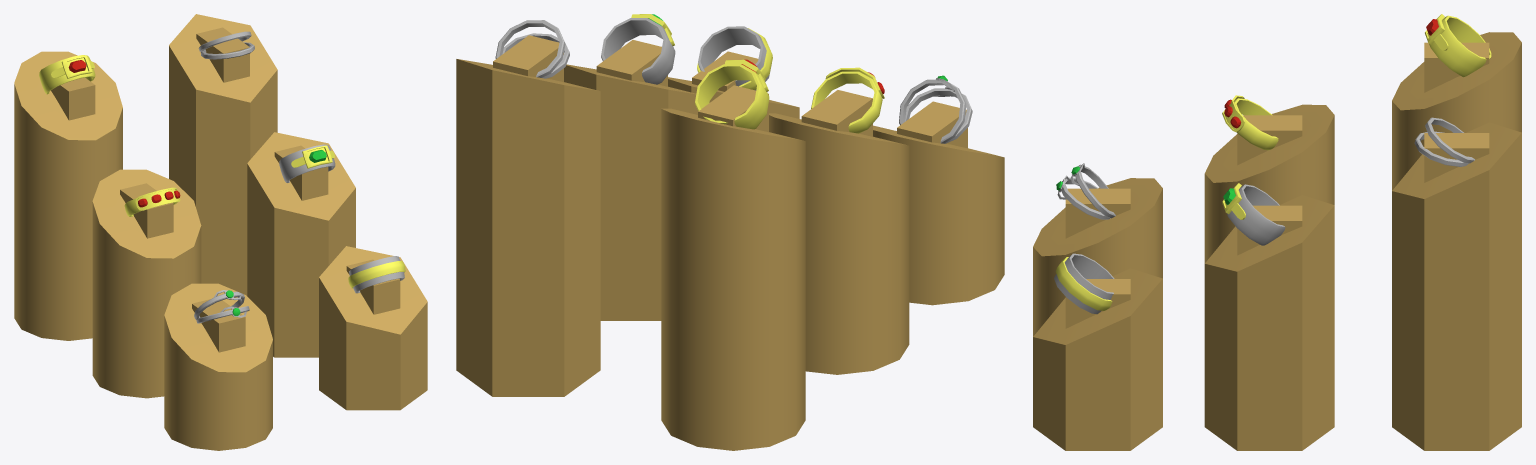
File: Rings_2.fbx
3 renders of one model, left to right at view 1: azimuth 30°, elevation 25°; view 2: azimuth 150°, elevation 25°; view 3: azimuth 270°, elevation 25°, orthographic. The views are drawn at different scales.
Parts seen in each view (by area): view 1: SM_Ring_Stand_4, SM_Ring_Stand_6, SM_Ring_Stand_2, SM_Ring_Stand_5, SM_Ring_Stand_3, SM_Ring_Stand_7, SM_Ring_14, SM_Ring_4, SM_Ring_13, SM_Ring_17, SM_Ring_6, SM_Ring_12; view 2: SM_Ring_Stand_4, SM_Ring_Stand_6, SM_Ring_Stand_2, SM_Ring_Stand_5, SM_Ring_Stand_3, SM_Ring_4, SM_Ring_13, SM_Ring_14, SM_Ring_6, SM_Ring_17, SM_Ring_12, SM_Ring_Stand_7; view 3: SM_Ring_Stand_6, SM_Ring_Stand_5, SM_Ring_Stand_7, SM_Ring_Stand_2, SM_Ring_Stand_4, SM_Ring_Stand_3, SM_Ring_4, SM_Ring_14, SM_Ring_13, SM_Ring_6, SM_Ring_17, SM_Ring_12.
Boxes of the visible parts, x1=… form: SM_Ring_Stand_4: x1=14, y1=51, x2=122, y2=340; SM_Ring_Stand_6: x1=169, y1=14, x2=277, y2=295; SM_Ring_Stand_2: x1=92, y1=169, x2=201, y2=398; SM_Ring_Stand_5: x1=247, y1=132, x2=355, y2=357; SM_Ring_Stand_3: x1=164, y1=283, x2=272, y2=450; SM_Ring_Stand_7: x1=319, y1=246, x2=427, y2=410; SM_Ring_14: x1=348, y1=256, x2=405, y2=293; SM_Ring_4: x1=39, y1=55, x2=95, y2=94; SM_Ring_13: x1=279, y1=144, x2=335, y2=182; SM_Ring_17: x1=194, y1=290, x2=249, y2=323; SM_Ring_6: x1=124, y1=187, x2=180, y2=216; SM_Ring_12: x1=198, y1=31, x2=254, y2=59; SM_Ring_Stand_4: x1=661, y1=85, x2=805, y2=450; SM_Ring_Stand_6: x1=456, y1=35, x2=600, y2=396; SM_Ring_Stand_2: x1=769, y1=90, x2=909, y2=374; SM_Ring_Stand_5: x1=564, y1=40, x2=697, y2=320; SM_Ring_Stand_3: x1=873, y1=101, x2=1004, y2=305; SM_Ring_4: x1=695, y1=59, x2=769, y2=129; SM_Ring_13: x1=601, y1=14, x2=675, y2=84; SM_Ring_14: x1=697, y1=26, x2=772, y2=90; SM_Ring_6: x1=811, y1=67, x2=884, y2=133; SM_Ring_17: x1=899, y1=75, x2=972, y2=143; SM_Ring_12: x1=495, y1=20, x2=569, y2=78; SM_Ring_Stand_7: x1=668, y1=51, x2=799, y2=118; SM_Ring_Stand_6: x1=1392, y1=122, x2=1521, y2=450; SM_Ring_Stand_5: x1=1204, y1=195, x2=1334, y2=450; SM_Ring_Stand_7: x1=1033, y1=268, x2=1162, y2=450; SM_Ring_Stand_2: x1=1204, y1=104, x2=1334, y2=263; SM_Ring_Stand_4: x1=1392, y1=32, x2=1521, y2=190; SM_Ring_Stand_3: x1=1033, y1=178, x2=1162, y2=336; SM_Ring_4: x1=1425, y1=14, x2=1491, y2=77; SM_Ring_14: x1=1054, y1=253, x2=1114, y2=314; SM_Ring_13: x1=1222, y1=183, x2=1285, y2=245; SM_Ring_6: x1=1222, y1=95, x2=1278, y2=150; SM_Ring_17: x1=1056, y1=163, x2=1115, y2=219; SM_Ring_12: x1=1414, y1=117, x2=1474, y2=166.
Bounding box in the file's own units: 10.3 × 10.81 × 15.04.
